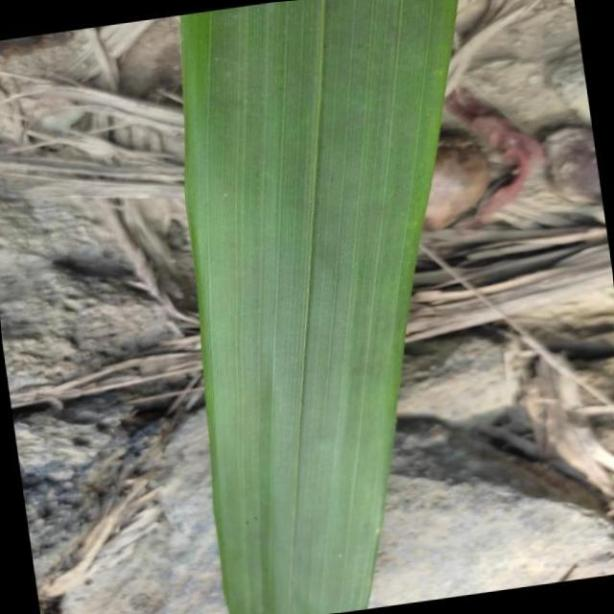Healthy: (180, 0, 456, 614)
